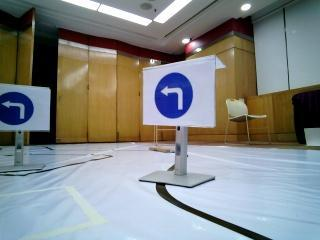left: (150, 72, 212, 122), (3, 87, 45, 130)
